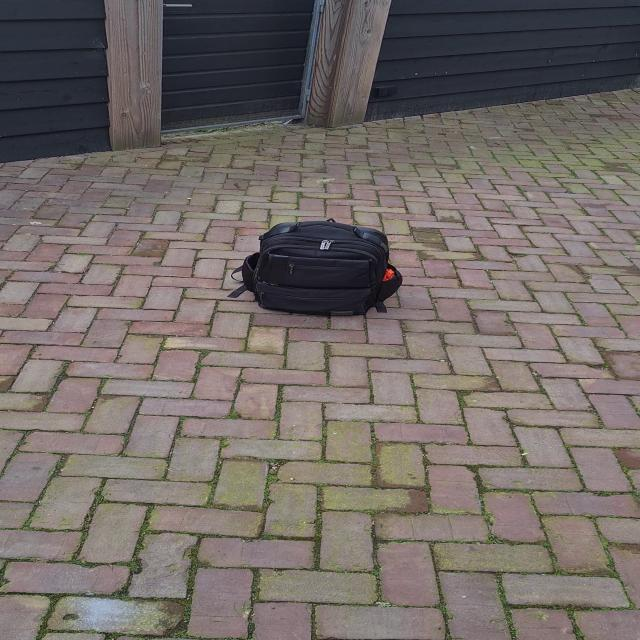backpack: (238, 219, 404, 320)
